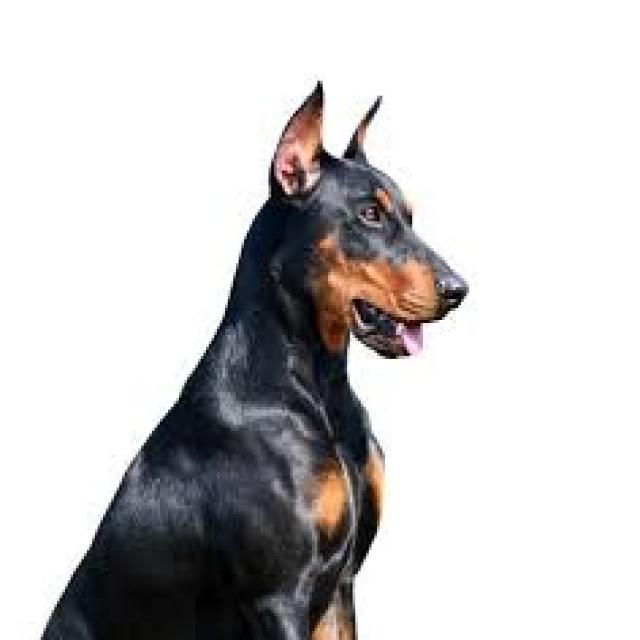Dog: (35, 77, 475, 640)
